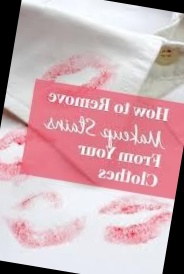lipstick: (0, 199, 89, 264), (95, 190, 172, 254), (39, 44, 107, 90), (9, 186, 70, 230), (76, 70, 115, 95), (0, 125, 27, 157), (0, 159, 18, 184)
